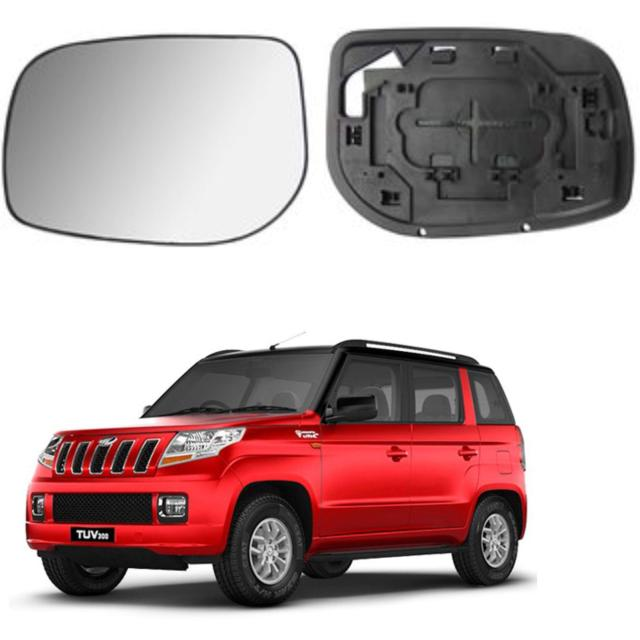light_vehicle: (33, 344, 531, 601)
